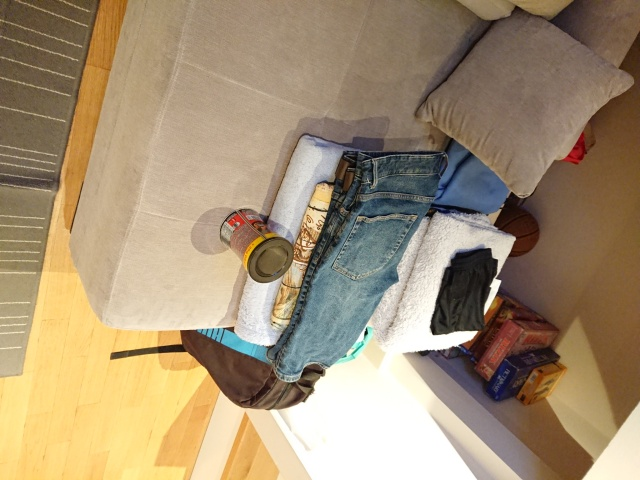Nescafe Classic 225g: (216, 206, 297, 285)
